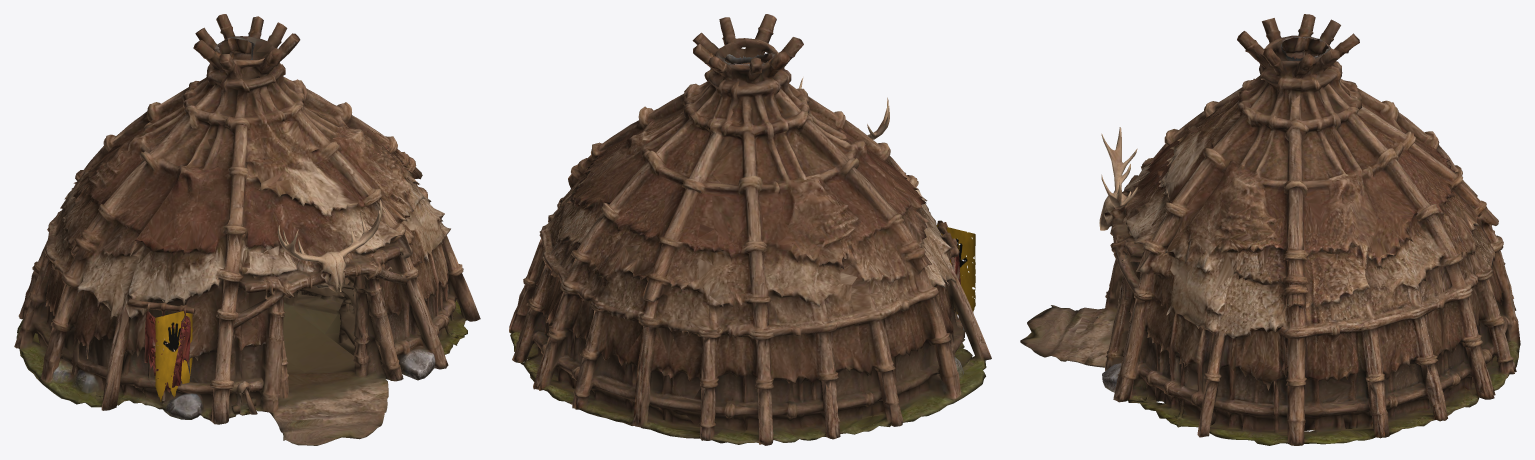
The model's file is SM_Bld_Player_Hut.gltf.
3 renders of one model, left to right at view 1: azimuth 30°, elevation 25°; view 2: azimuth 150°, elevation 25°; view 3: azimuth 270°, elevation 25°, orthographic. The views are drawn at different scales.
Visible parts, largest first — view 1: SM_Bld_Player_Hut; view 2: SM_Bld_Player_Hut; view 3: SM_Bld_Player_Hut.
Boxes of the visible parts, x1,y1,x2,y2 form: SM_Bld_Player_Hut: [14, 14, 480, 445]; SM_Bld_Player_Hut: [509, 14, 991, 445]; SM_Bld_Player_Hut: [1020, 14, 1520, 445].
Bounding box in the file's own units: 5.4 × 3.86 × 5.45.
Materials: 2 (2 with a texture image).
